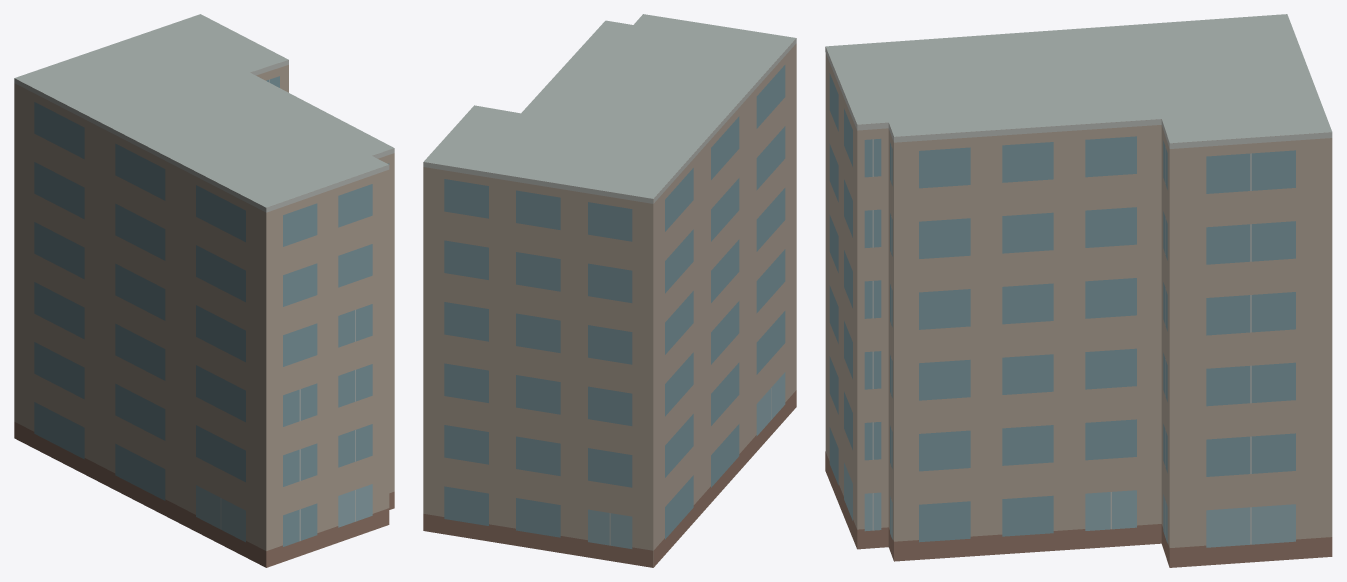
Rendered from survey-upis-32730908.glb.
The picture shows the model from 3 angles, left to right: view 1: azimuth 30°, elevation 25°; view 2: azimuth 150°, elevation 25°; view 3: azimuth 270°, elevation 25°; orthographic projection. The views are drawn at different scales.
Parts seen in each view (by area): view 1: survey-upis-32730908.tmp; view 2: survey-upis-32730908.tmp; view 3: survey-upis-32730908.tmp.
Boxes of the visible parts, x1=… form: survey-upis-32730908.tmp: x1=14, y1=14, x2=394, y2=567; survey-upis-32730908.tmp: x1=423, y1=14, x2=796, y2=567; survey-upis-32730908.tmp: x1=825, y1=14, x2=1332, y2=567.
Size of the model in its own units: 11.7 by 17.9 by 19.38.
